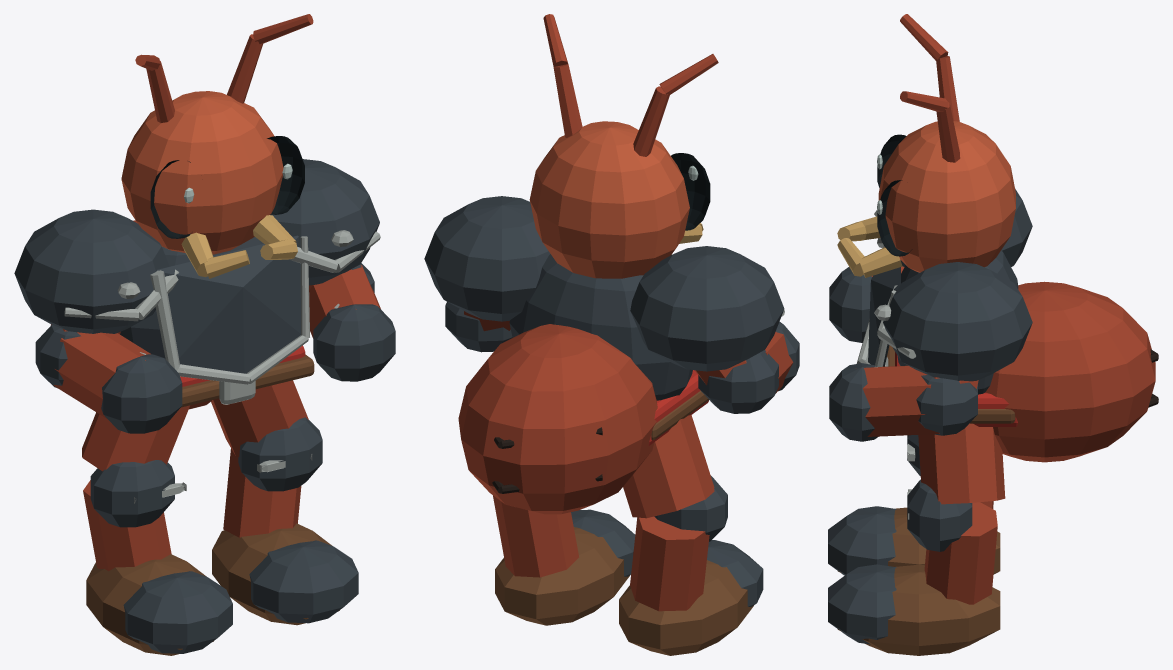
File: worker.glb
3 views of the same model, side by side, from view 1: azimuth 30°, elevation 25°; view 2: azimuth 150°, elevation 25°; view 3: azimuth 270°, elevation 25° (orthographic). The views are drawn at different scales.
Parts seen in each view (by area): view 1: worker; view 2: worker; view 3: worker.
Boxes of the visible parts, left/top/right/bottom form: worker: left=14, top=14, right=395, bottom=655; worker: left=424, top=14, right=799, bottom=655; worker: left=828, top=14, right=1158, bottom=655.
Bounding box in the file's own units: 1.26 × 2.09 × 1.1.
